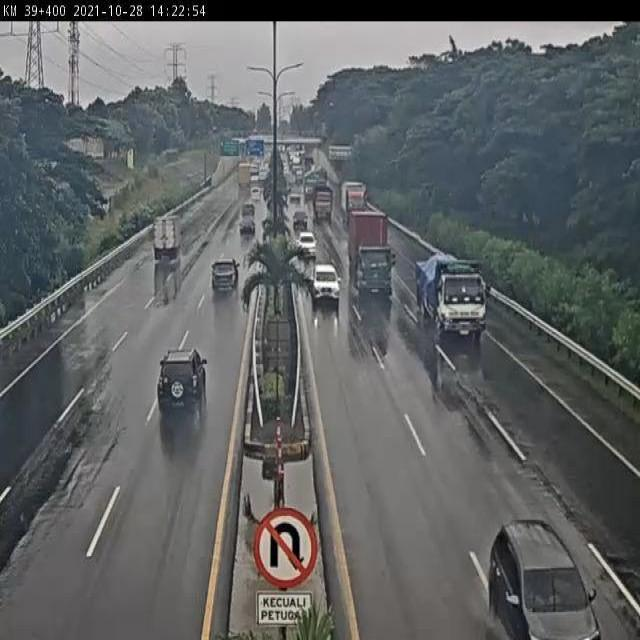truck-s-: (153, 212, 182, 265)
truck-xl-: (414, 254, 491, 342), (346, 209, 397, 299)
